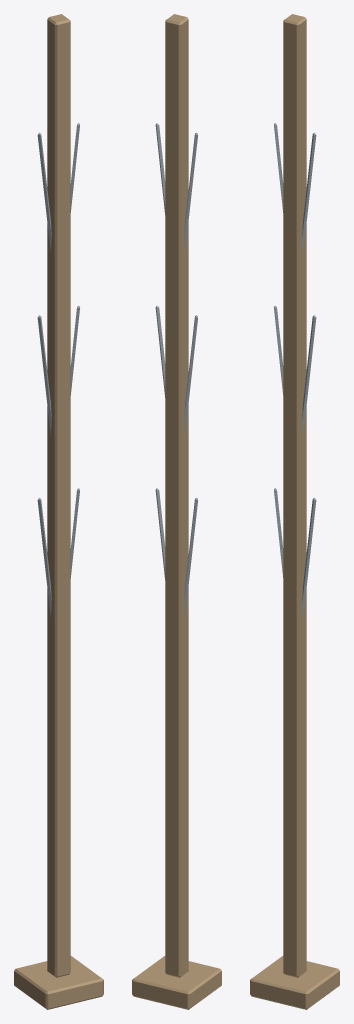
File: tower_leg.glb
The picture shows the model from 3 angles, left to right: view 1: azimuth 30°, elevation 25°; view 2: azimuth 150°, elevation 25°; view 3: azimuth 330°, elevation 25°; orthographic projection.
Visible parts, largest first — view 1: tower_leg; view 2: tower_leg; view 3: tower_leg.
Part boxes in pixels (box(x1,y1,x2,y2)): tower_leg: box(14, 14, 103, 1009); tower_leg: box(132, 14, 221, 1009); tower_leg: box(250, 14, 339, 1009).
Size of the model in its own units: 0.5 by 8 by 0.5.
